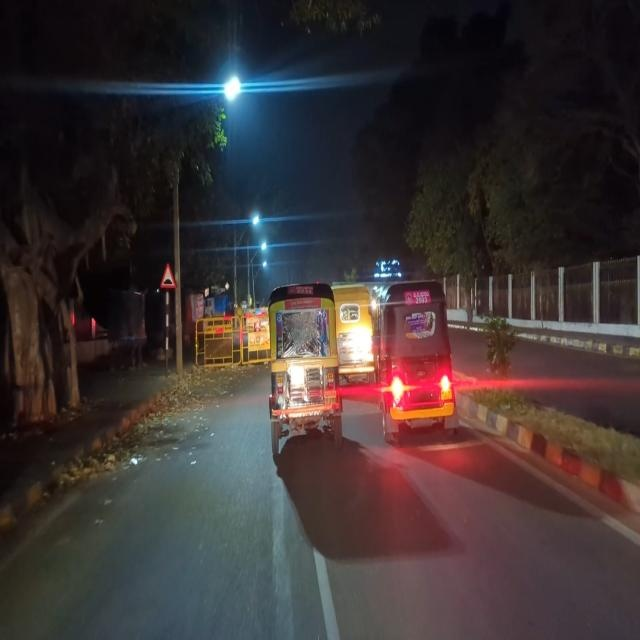bien_nguy_hiem: (159, 262, 177, 288)
